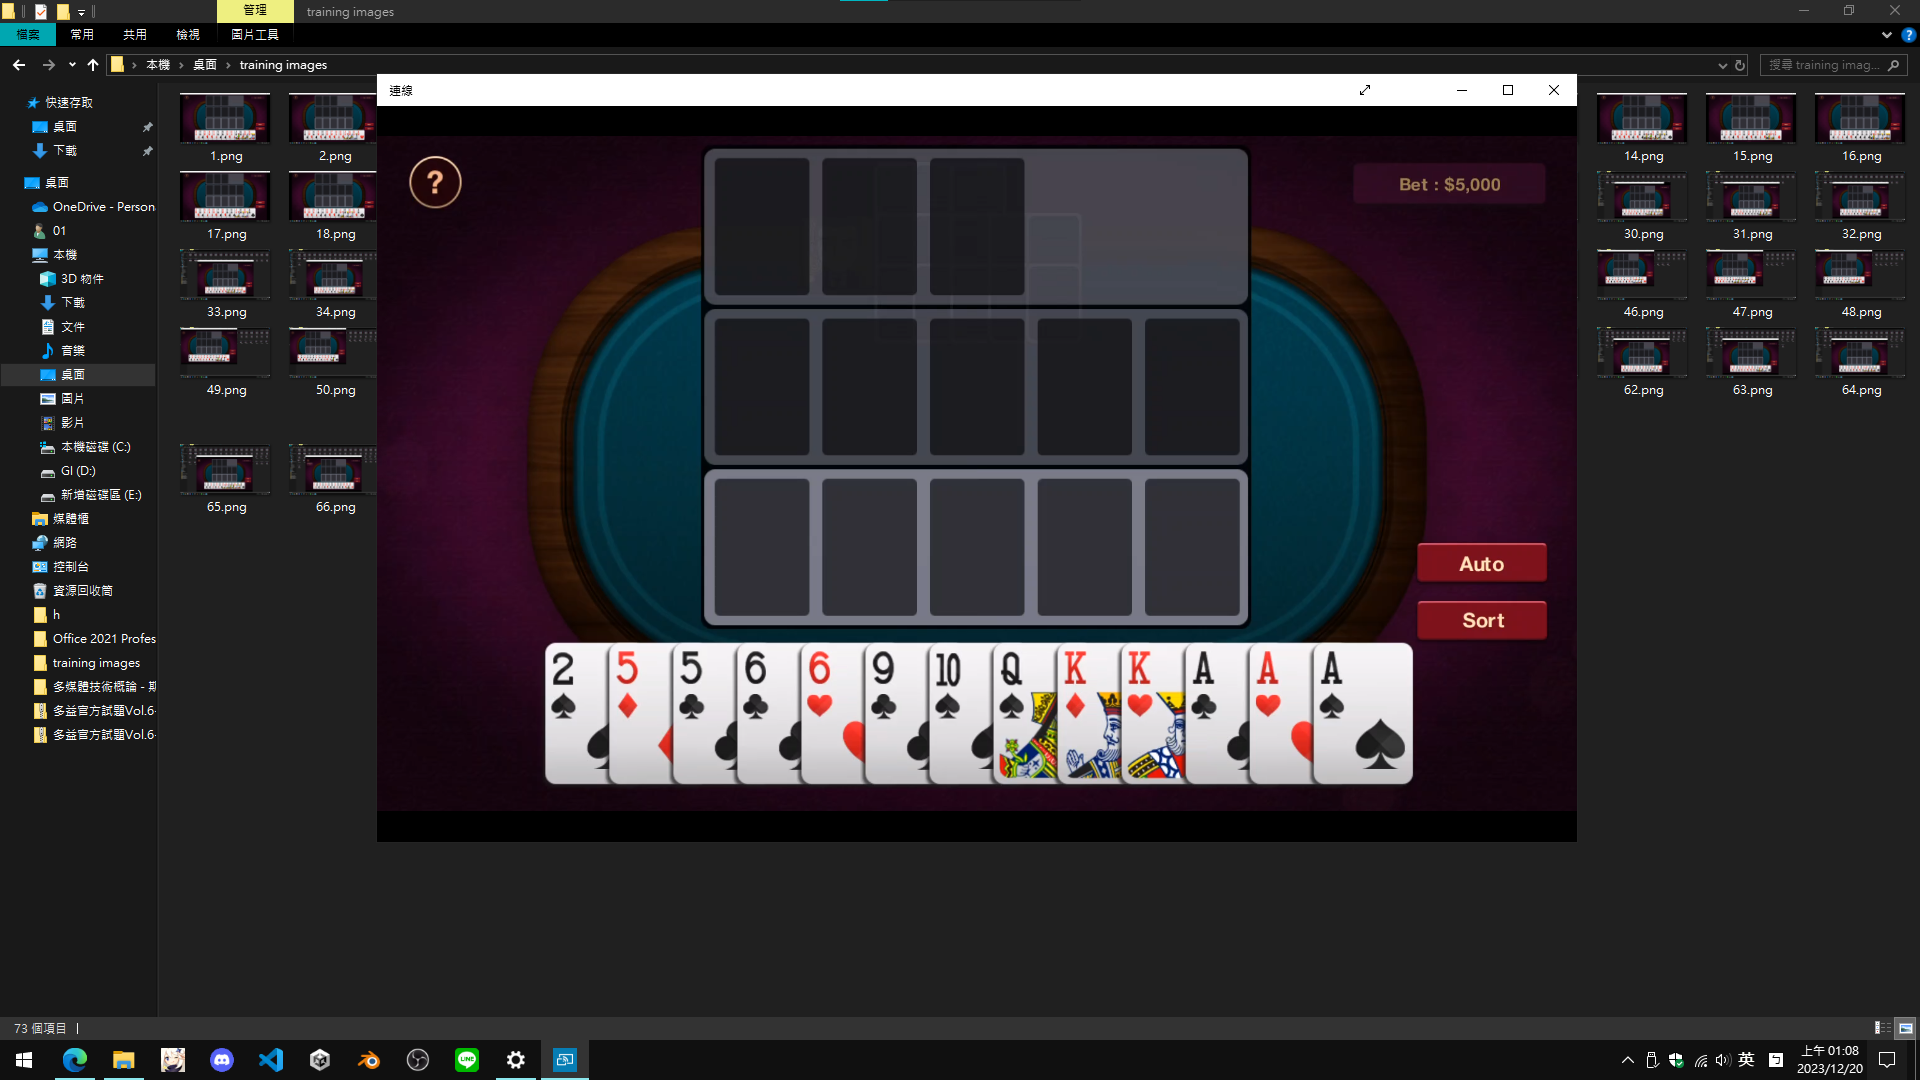10S: (932, 649, 963, 721)
2S: (549, 649, 580, 723)
5C: (678, 646, 705, 721)
5D: (613, 646, 642, 724)
6C: (741, 650, 769, 723)
6H: (807, 647, 835, 719)
9C: (869, 647, 898, 724)
AC: (1189, 649, 1218, 724)
AH: (1251, 646, 1284, 721)
AS: (1317, 649, 1346, 723)
KD: (1062, 646, 1087, 721)
KH: (1124, 646, 1155, 721)
QS: (996, 646, 1029, 724)
